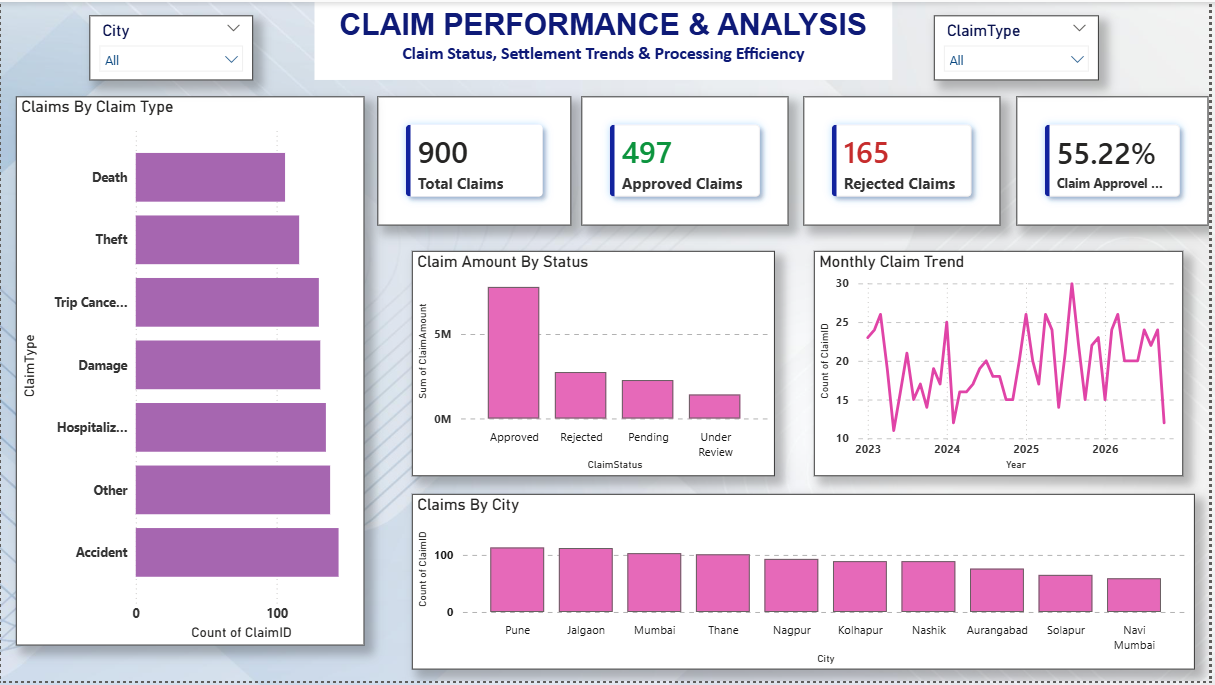

The dashboard page shown, as its layout file describes it:
{"tool":"powerbi","page":{"name":"Claim Analysis","canvas":[1280,720],"ordinal":1},"visuals":[{"type":"textbox","box":[332.4,0,612.4,82.7],"z":0},{"type":"cardVisual","fields":{"Data":["Policies.Total Claims"]},"box":[399.2,100.2,205.2,136.8],"z":1000},{"type":"cardVisual","fields":{"Data":["Policies.Approved Claims"]},"box":[615.6,100.2,219.5,136.8],"z":2000},{"type":"cardVisual","fields":{"Data":["Claims.Rejected Claims"]},"box":[851,100.2,208.4,136.8],"z":3000},{"type":"clusteredBarChart","title":"Claims By Claim Type","fields":{"Category":["Claims.ClaimType"],"Y":["CountNonNull(Claims.ClaimID)"]},"box":[15.9,100.2,369,582.2],"z":4000},{"type":"clusteredColumnChart","title":"Claims By City","fields":{"Category":["Customers.City"],"Y":["CountNonNull(Claims.ClaimID)"]},"box":[435.8,521.7,830.3,186.1],"z":5000},{"type":"clusteredColumnChart","title":"Claim Amount By Status","fields":{"Category":["Claims.ClaimStatus"],"Y":["Sum(Claims.ClaimAmount)"]},"box":[435.8,264,384.9,238.6],"z":6000},{"type":"lineChart","title":"Monthly Claim Trend","fields":{"Y":["CountNonNull(Claims.ClaimID)"],"Category":["Claims.ClaimDate.Variation.Date Hierarchy.Year","Claims.ClaimDate.Variation.Date Hierarchy.Month"]},"box":[862.1,264,391.3,238.6],"z":7000},{"type":"cardVisual","fields":{"Data":["Claims.Claim Approvel Rate%"]},"box":[1076.8,100.2,203.6,136.8],"z":8000},{"type":"slicer","fields":{"Values":["Claims.ClaimType"]},"box":[989.4,14.3,175,68.4],"z":9000},{"type":"slicer","fields":{"Values":["Customers.City"]},"box":[93.8,14.3,173.4,68.4],"z":10000}]}

Visuals, with their boxes in screenshot pixels (x1, y1, x2, y2), scaled from the page's 1280x720 canvas onto the 1215x685 screenshot:
textbox: <bbox>316, 0, 897, 79</bbox>
cardVisual - Policies.Total Claims: <bbox>379, 95, 574, 225</bbox>
cardVisual - Policies.Approved Claims: <bbox>584, 95, 793, 225</bbox>
cardVisual - Claims.Rejected Claims: <bbox>808, 95, 1006, 225</bbox>
"Claims By Claim Type" clusteredBarChart: <bbox>15, 95, 365, 649</bbox>
"Claims By City" clusteredColumnChart: <bbox>414, 496, 1202, 673</bbox>
"Claim Amount By Status" clusteredColumnChart: <bbox>414, 251, 779, 478</bbox>
"Monthly Claim Trend" lineChart: <bbox>818, 251, 1190, 478</bbox>
cardVisual - Claims.Claim Approvel Rate%: <bbox>1022, 95, 1214, 225</bbox>
slicer - Claims.ClaimType: <bbox>939, 14, 1105, 79</bbox>
slicer - Customers.City: <bbox>89, 14, 254, 79</bbox>
